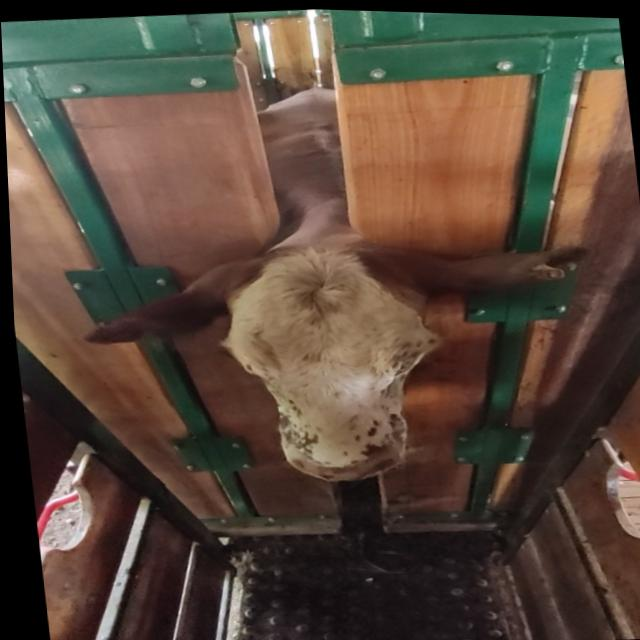cowFace: (213, 229, 452, 488)
